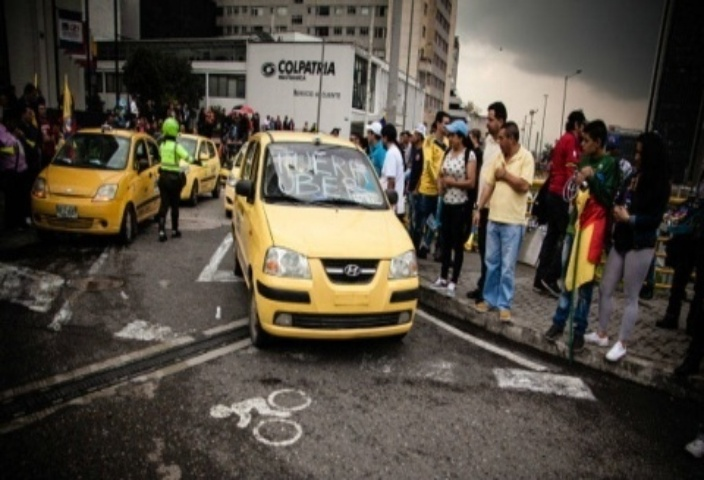taxi: (214, 129, 417, 352), (38, 110, 179, 239), (163, 125, 219, 195)
